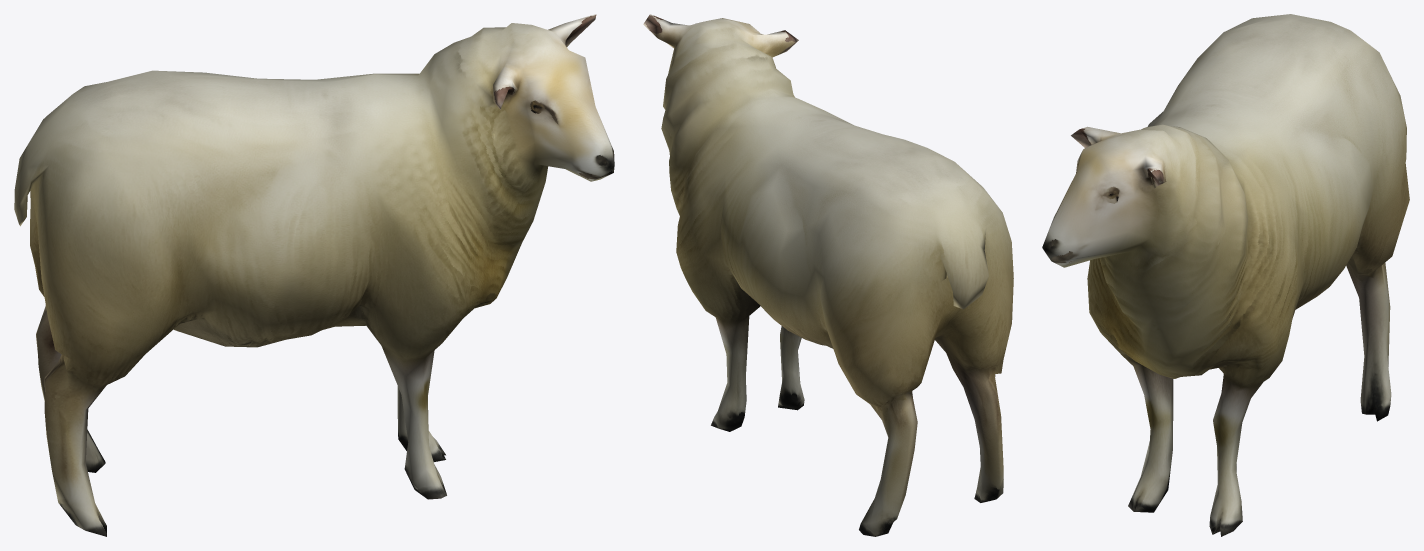
The model's file is sheep_single_1500.glb.
The picture shows the model from 3 angles, left to right: view 1: azimuth 30°, elevation 25°; view 2: azimuth 150°, elevation 25°; view 3: azimuth 270°, elevation 25°; orthographic projection. The views are drawn at different scales.
Size of the model in its own units: 0.8514 by 0.7361 by 0.5748.
1 material, 1 textured.
